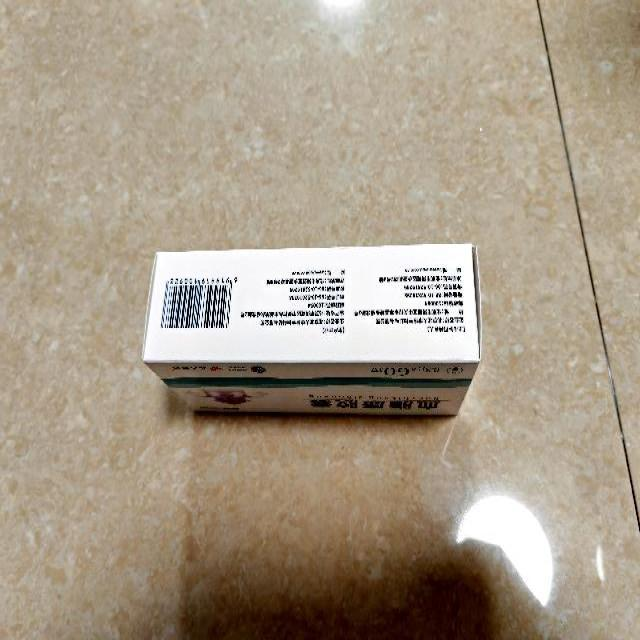box: (142, 244, 482, 416)
